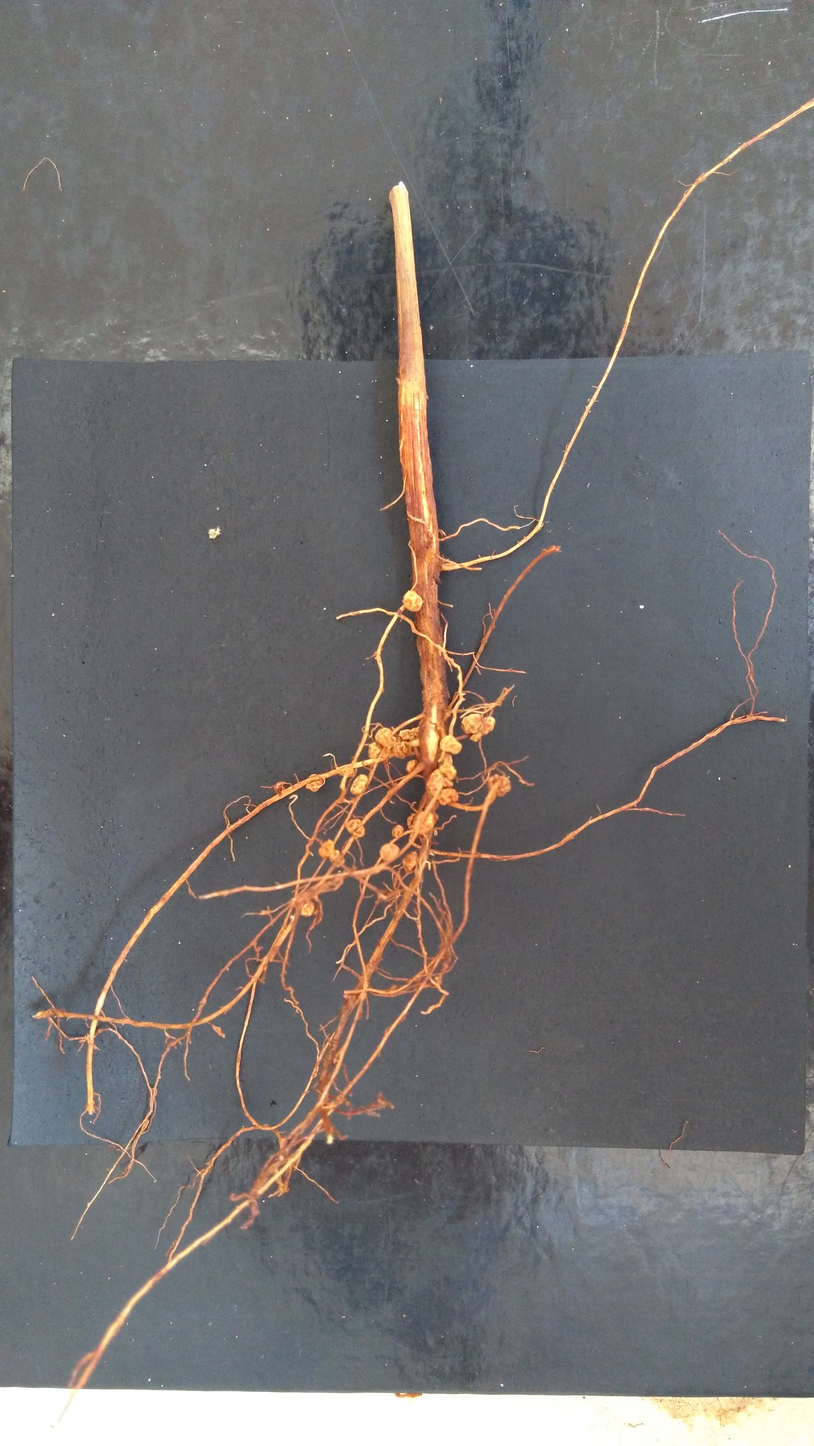nodule: (425, 767, 455, 798), (406, 811, 436, 834), (487, 773, 513, 799), (401, 588, 424, 614), (459, 712, 483, 735), (439, 734, 463, 756), (378, 842, 401, 863), (400, 849, 419, 874), (374, 727, 396, 748), (437, 786, 459, 807), (344, 818, 367, 838), (305, 772, 326, 793), (349, 773, 369, 795), (439, 761, 458, 781), (392, 741, 413, 759), (317, 839, 335, 859), (328, 848, 346, 868), (480, 716, 497, 735), (299, 899, 315, 918), (367, 740, 381, 760), (390, 823, 405, 839), (398, 727, 415, 741), (404, 759, 419, 773), (339, 765, 358, 776), (468, 731, 483, 743), (411, 726, 420, 738)
